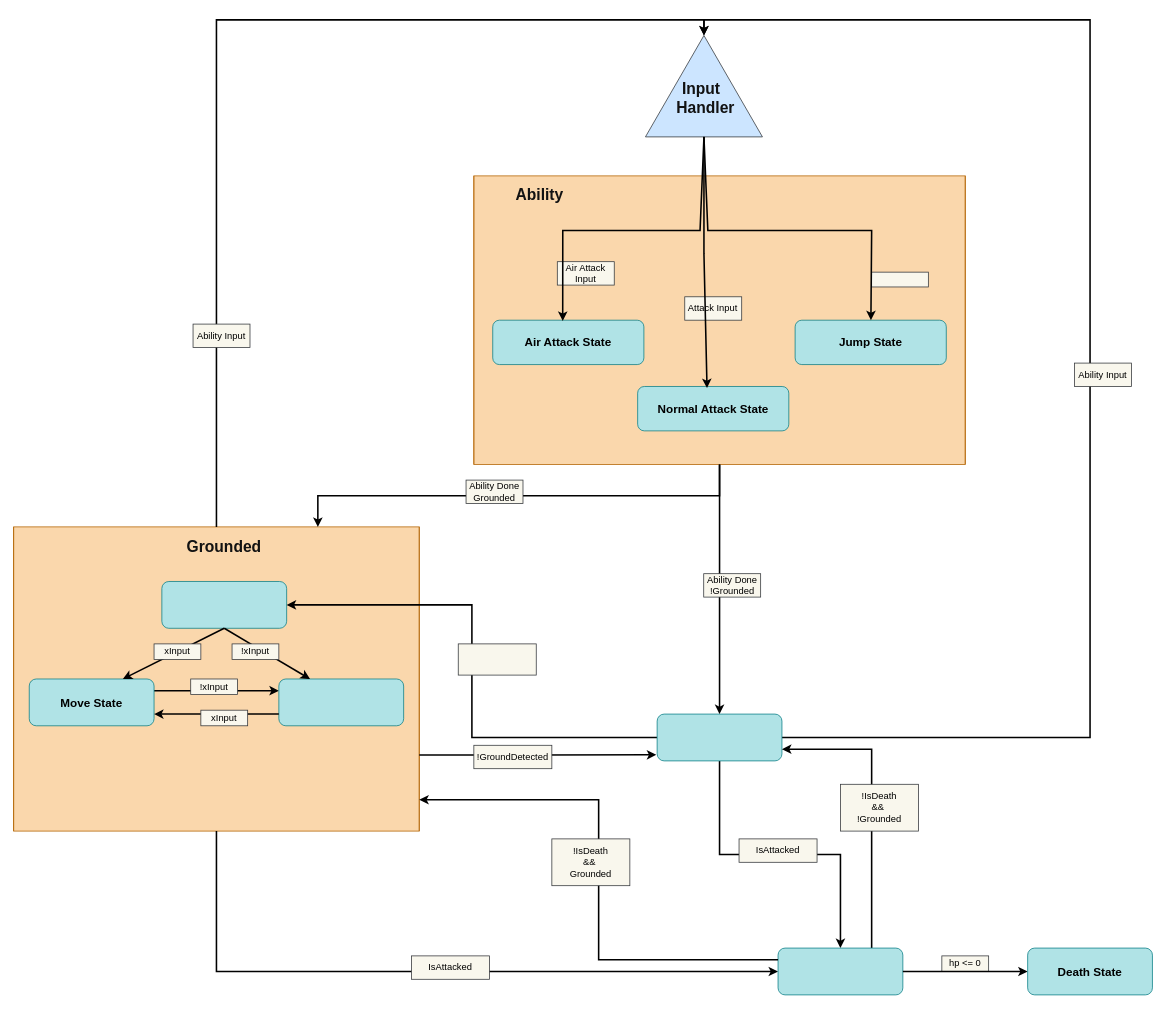
Some shapes in this 1166 by 1009 pixel diagram are drawn without their labels. Here are the shapes that lost their labels. From the top down, the centre of each, then its label:
At pixel 899 279: "Jump Input".
At pixel 224 604: "Land State".
At pixel 496 659: "GroundDetected yVel <= 0".
At pixel 341 702: "Idle State".
At pixel 719 737: "In Air State".
At pixel 840 971: "Hurt State".
